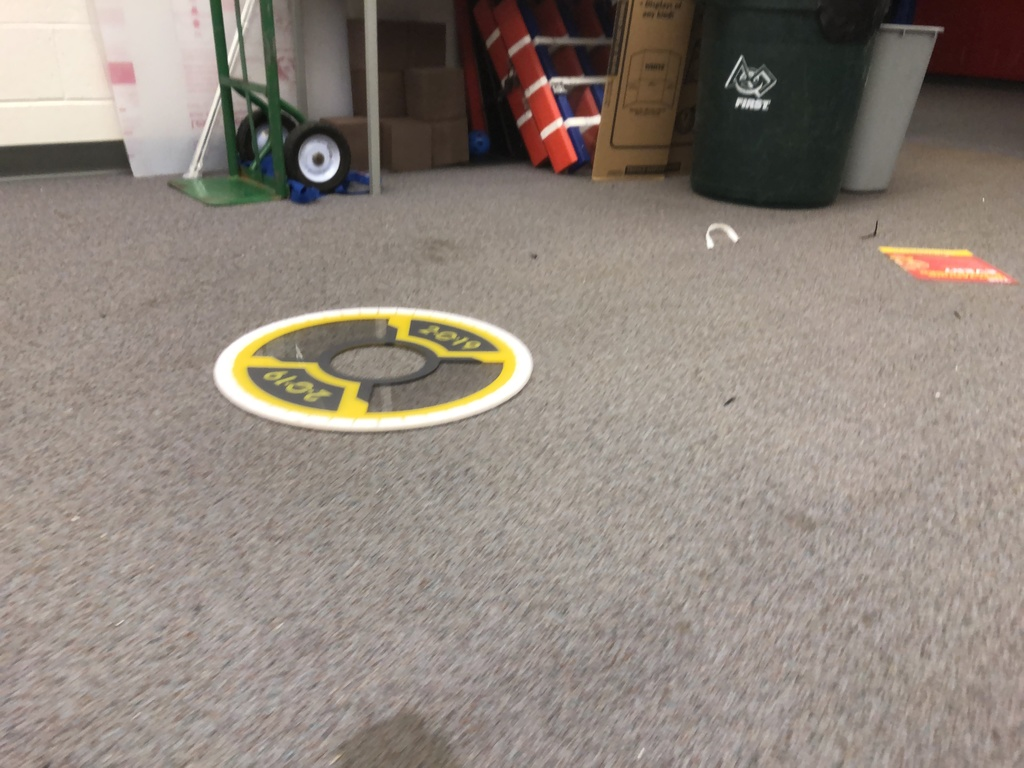hatch_panel: (205, 295, 536, 436)
